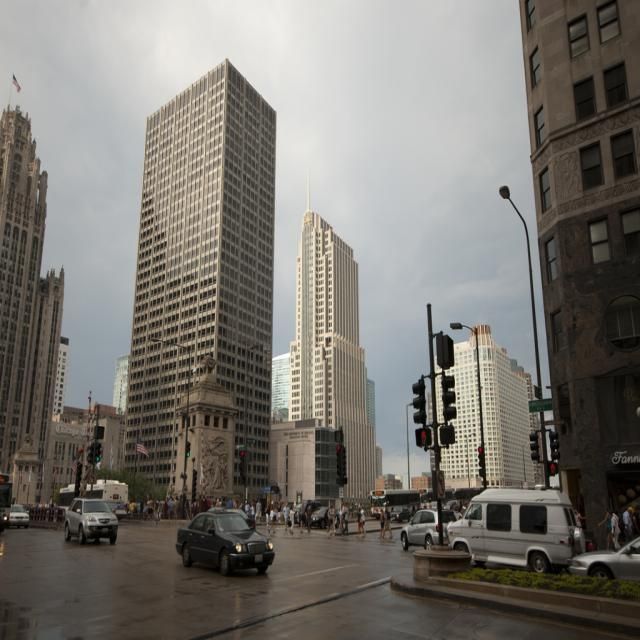off traffic light: (443, 374, 457, 422), (412, 378, 425, 424)
traffic light: (529, 433, 540, 461), (550, 432, 561, 460), (415, 429, 431, 446), (94, 443, 102, 462), (478, 447, 485, 467), (548, 462, 558, 474)
